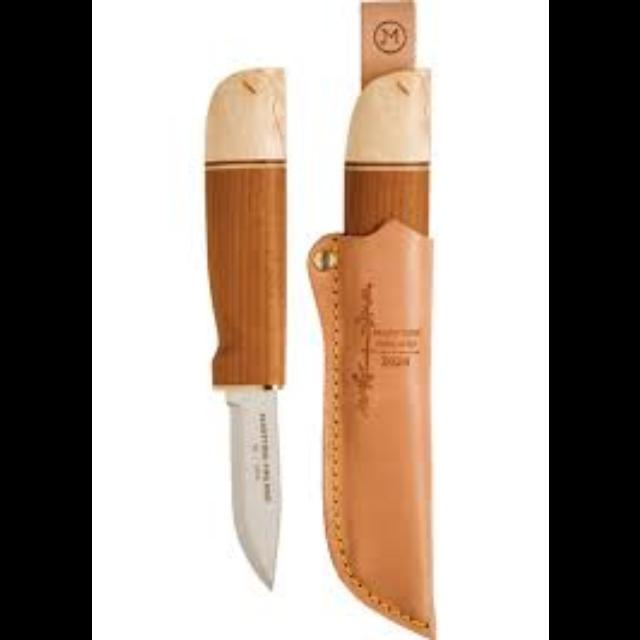knife: (306, 0, 434, 638), (202, 65, 286, 589)
